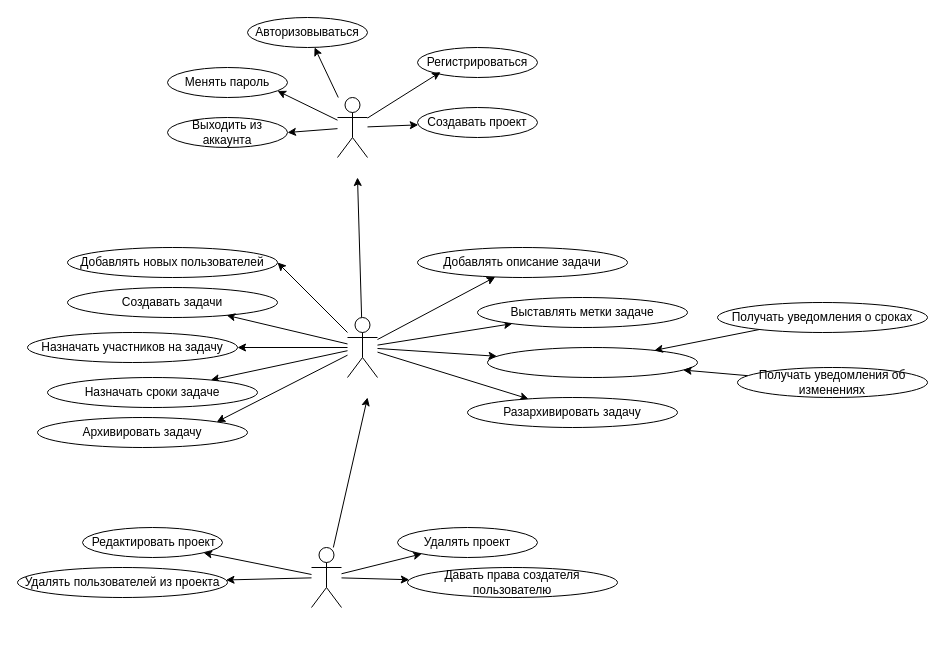
This 945x646 diagram has some shape labels left out. The shapes that lost their labels are listed below. From the top down, each one's centre as x and y in pixels, then its label:
At (x=352, y=127): "Пользователь".
At (x=362, y=347): "Участник проекта".
At (x=592, y=362): "Подписываться на задачу".
At (x=326, y=577): "Создатель проекта".
